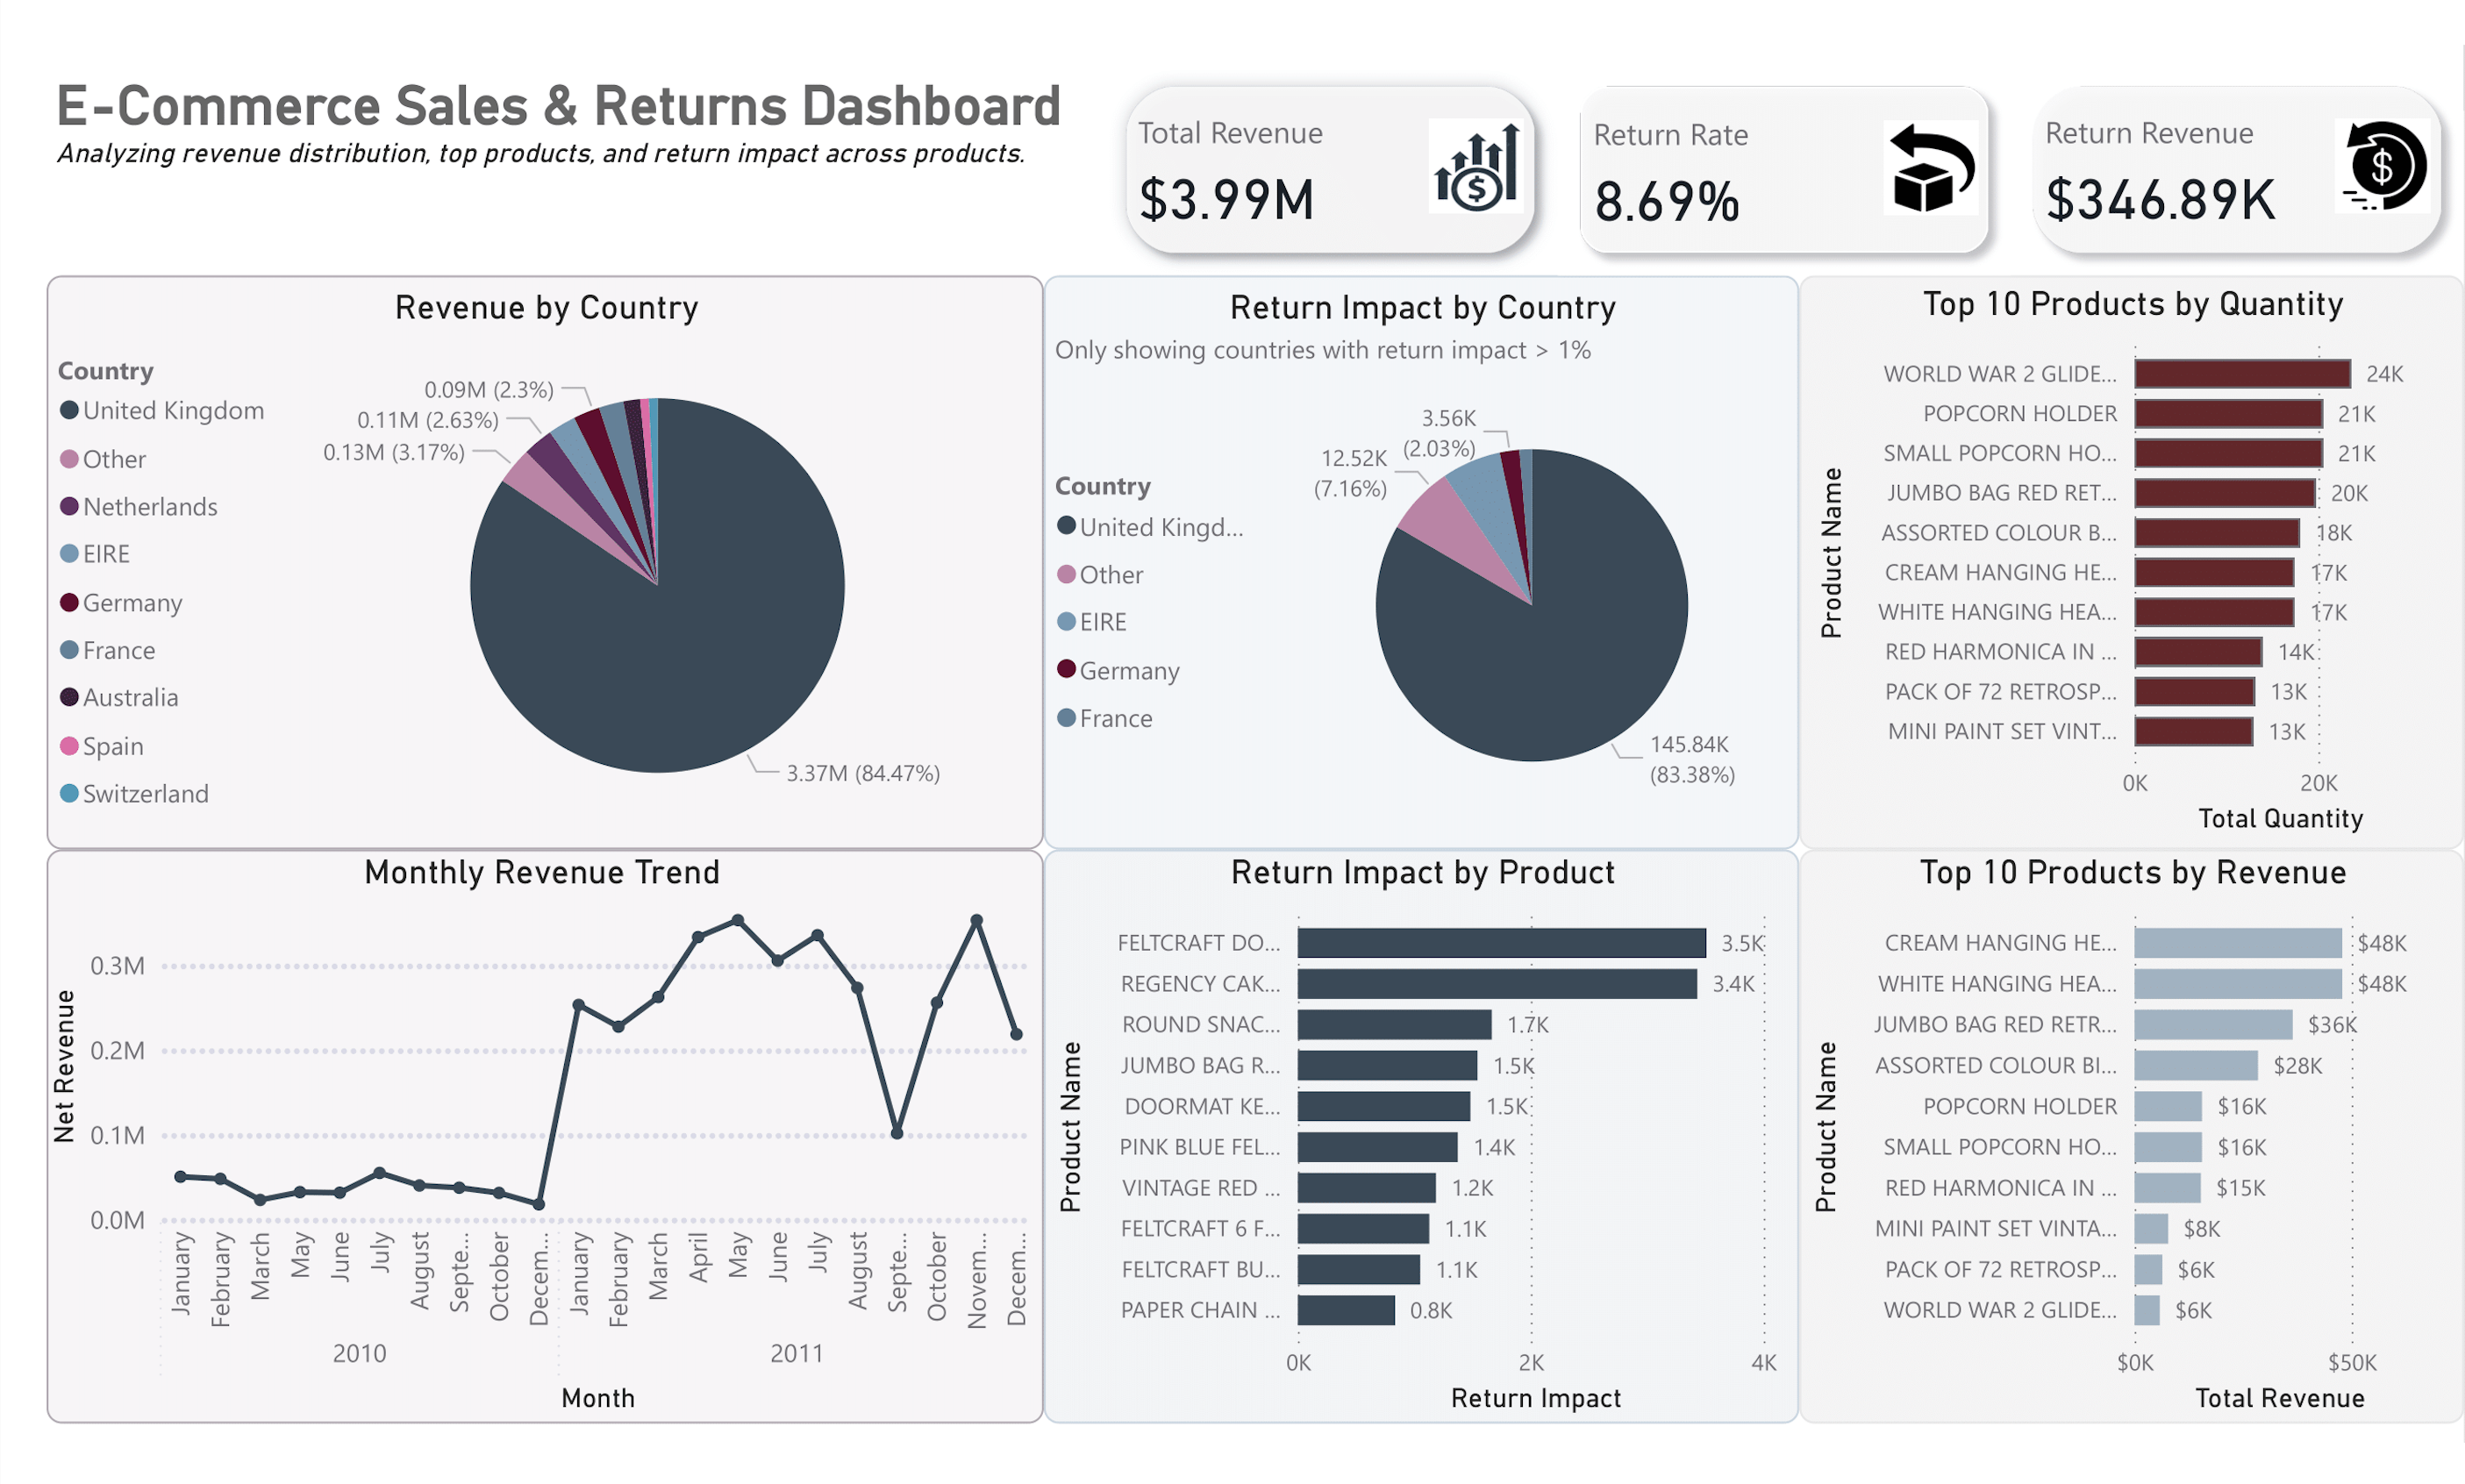

The page's visual inventory and layout, read from the dashboard file:
{"tool":"powerbi","page":{"name":"Page 1","canvas":[1280,720],"ordinal":0},"visuals":[{"type":"clusteredBarChart","title":"Top 10 Products by Quantity","fields":{"Category":["global_ecommerce dim_product.Description"],"Y":["global_ecommerce fact_sales.Total Quantity"]},"box":[928,112,352,304],"z":0},{"type":"pieChart","title":"Return Impact by Country","fields":{"Category":["global_ecommerce dim_customer.Country Group"],"Y":["global_ecommerce fact_sales.Return Impact"]},"box":[528,112,400,304],"z":500},{"type":"pieChart","title":"Revenue by Country","fields":{"Y":["Sum(global_ecommerce fact_sales.TotalPrice)"],"Category":["global_ecommerce dim_customer.Country Group"]},"box":[0,112,528,304],"z":1000},{"type":"cardVisual","fields":{"Data":["global_ecommerce fact_sales.Return Rate"]},"box":[800,0,240,112],"z":2000},{"type":"clusteredBarChart","title":"Return Impact by Product","fields":{"Category":["global_ecommerce dim_product.Description"],"Y":["global_ecommerce fact_sales.Return Impact"]},"box":[528,416,400,304],"z":3000},{"type":"cardVisual","fields":{"Data":["global_ecommerce fact_sales.Return Revenue"]},"box":[1040,0,240,112],"z":4000},{"type":"textbox","box":[0,0,560,80],"z":5000},{"type":"cardVisual","fields":{"Data":["global_ecommerce fact_sales.Total Revenue"]},"box":[560,0,240,112],"z":6000},{"type":"clusteredBarChart","title":"Top 10 Products by Revenue","fields":{"Category":["global_ecommerce dim_product.Description"],"Y":["global_ecommerce fact_sales.Total Revenue"]},"box":[928,416,352,304],"z":7000},{"type":"lineChart","title":"Monthly Revenue Trend","fields":{"Category":["global_ecommerce dim_date.Year","global_ecommerce dim_date.MonthName"],"Y":["global_ecommerce fact_sales.Net Revenue"]},"box":[0,416,528,304],"z":8000}]}

Visuals, with their boxes on the page's 1280x720 design canvas (x1, y1, x2, y2). These are canvas units, not pixel positions in the 2465x1484 screenshot, which may show the page scaled, cropped or inside an application window:
"Top 10 Products by Quantity" clusteredBarChart: crop(928, 112, 1280, 416)
"Return Impact by Country" pieChart: crop(528, 112, 928, 416)
"Revenue by Country" pieChart: crop(0, 112, 528, 416)
cardVisual - global_ecommerce fact_sales.Return Rate: crop(800, 0, 1040, 112)
"Return Impact by Product" clusteredBarChart: crop(528, 416, 928, 720)
cardVisual - global_ecommerce fact_sales.Return Revenue: crop(1040, 0, 1280, 112)
textbox: crop(0, 0, 560, 80)
cardVisual - global_ecommerce fact_sales.Total Revenue: crop(560, 0, 800, 112)
"Top 10 Products by Revenue" clusteredBarChart: crop(928, 416, 1280, 720)
"Monthly Revenue Trend" lineChart: crop(0, 416, 528, 720)
